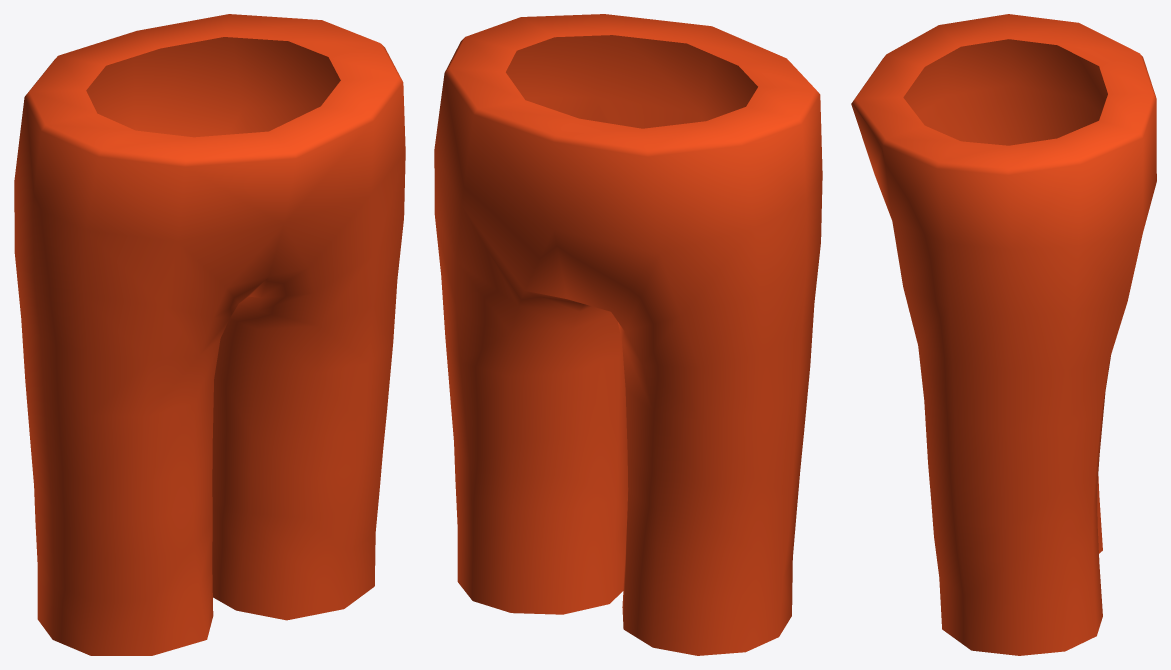
File: Pants_Orange_003.glb
3 views of the same model, side by side, from view 1: azimuth 30°, elevation 25°; view 2: azimuth 150°, elevation 25°; view 3: azimuth 270°, elevation 25° (orthographic). The views are drawn at different scales.
Visible parts, largest first — view 1: Pants_Orange_003; view 2: Pants_Orange_003; view 3: Pants_Orange_003.
Part boxes in pixels (<box>): Pants_Orange_003: <box>14,14,405,655</box>; Pants_Orange_003: <box>434,14,822,655</box>; Pants_Orange_003: <box>851,14,1156,655</box>.
Bounding box in the file's own units: 0.46 × 0.6458 × 0.3616.
1 material, 1 textured.
